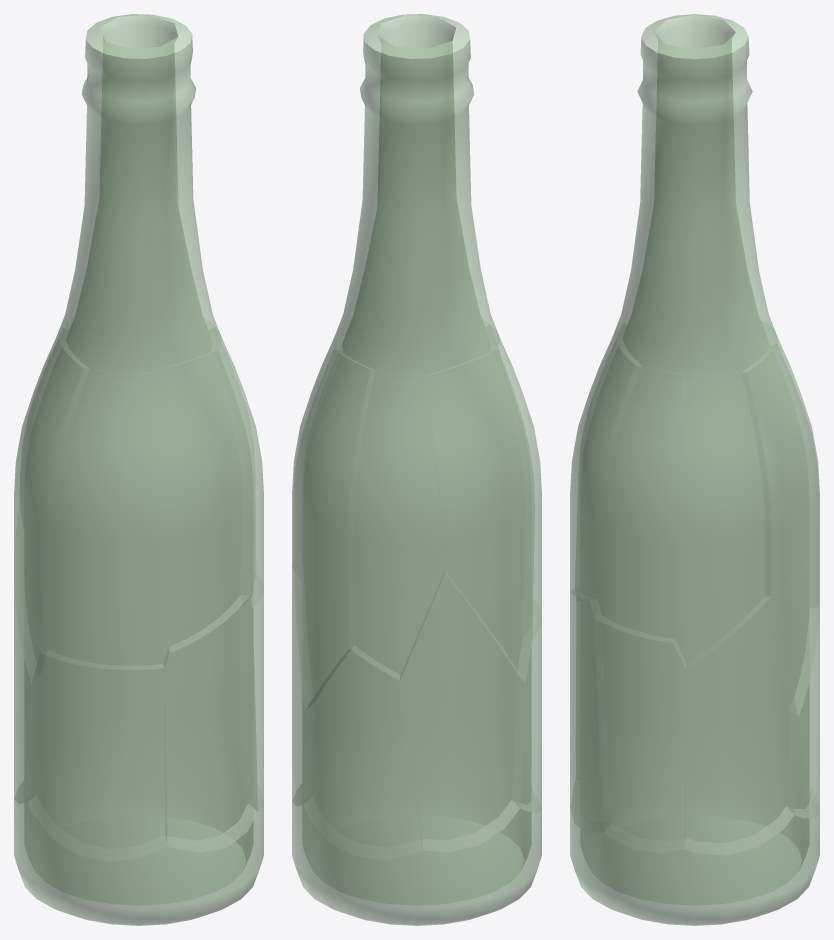
Rendered from bottle_beer.glb.
3 views of the same model, side by side, from view 1: azimuth 30°, elevation 25°; view 2: azimuth 150°, elevation 25°; view 3: azimuth 270°, elevation 25° (orthographic).
Parts seen in each view (by area): view 1: intact, frag_00, frag_06, frag_12, frag_01, frag_14, frag_11, frag_02, frag_04, frag_08, frag_09, frag_05 (+1 smaller); view 2: intact, frag_00, frag_08, frag_02, frag_05, frag_14, frag_13, frag_07, frag_06, frag_12, frag_10, frag_03; view 3: intact, frag_00, frag_03, frag_10, frag_14, frag_04, frag_09, frag_07, frag_01, frag_11, frag_13, frag_05 (+2 smaller).
Part boxes in pixels (x1,y1,x2,y2): intact: (14, 14, 263, 925); frag_00: (57, 14, 221, 375); frag_06: (40, 368, 169, 669); frag_12: (28, 650, 166, 861); frag_01: (136, 351, 252, 652); frag_14: (14, 781, 263, 925); frag_11: (163, 595, 257, 852); frag_02: (14, 328, 88, 682); frag_04: (209, 327, 263, 607); frag_08: (14, 506, 40, 803); frag_09: (243, 574, 263, 811); frag_05: (20, 320, 72, 507); intact: (292, 14, 541, 925); frag_00: (333, 14, 499, 376); frag_08: (400, 572, 525, 852); frag_02: (424, 350, 534, 682); frag_05: (349, 370, 445, 679); frag_14: (292, 784, 541, 925); frag_13: (303, 646, 422, 859); frag_07: (293, 350, 374, 710); frag_06: (486, 325, 541, 639); frag_12: (512, 600, 541, 813); frag_10: (292, 562, 314, 805); frag_03: (292, 320, 350, 568); intact: (570, 14, 819, 925); frag_00: (614, 14, 777, 374); frag_03: (673, 372, 770, 669); frag_10: (685, 597, 797, 855); frag_14: (570, 778, 819, 925); frag_04: (590, 365, 684, 642); frag_09: (594, 615, 686, 852); frag_07: (742, 344, 818, 716); frag_01: (570, 323, 640, 599); frag_11: (570, 588, 610, 832); frag_13: (787, 607, 819, 817); frag_05: (762, 321, 819, 606).
Size of the model in its own units: 0.061 by 0.229 by 0.061.
